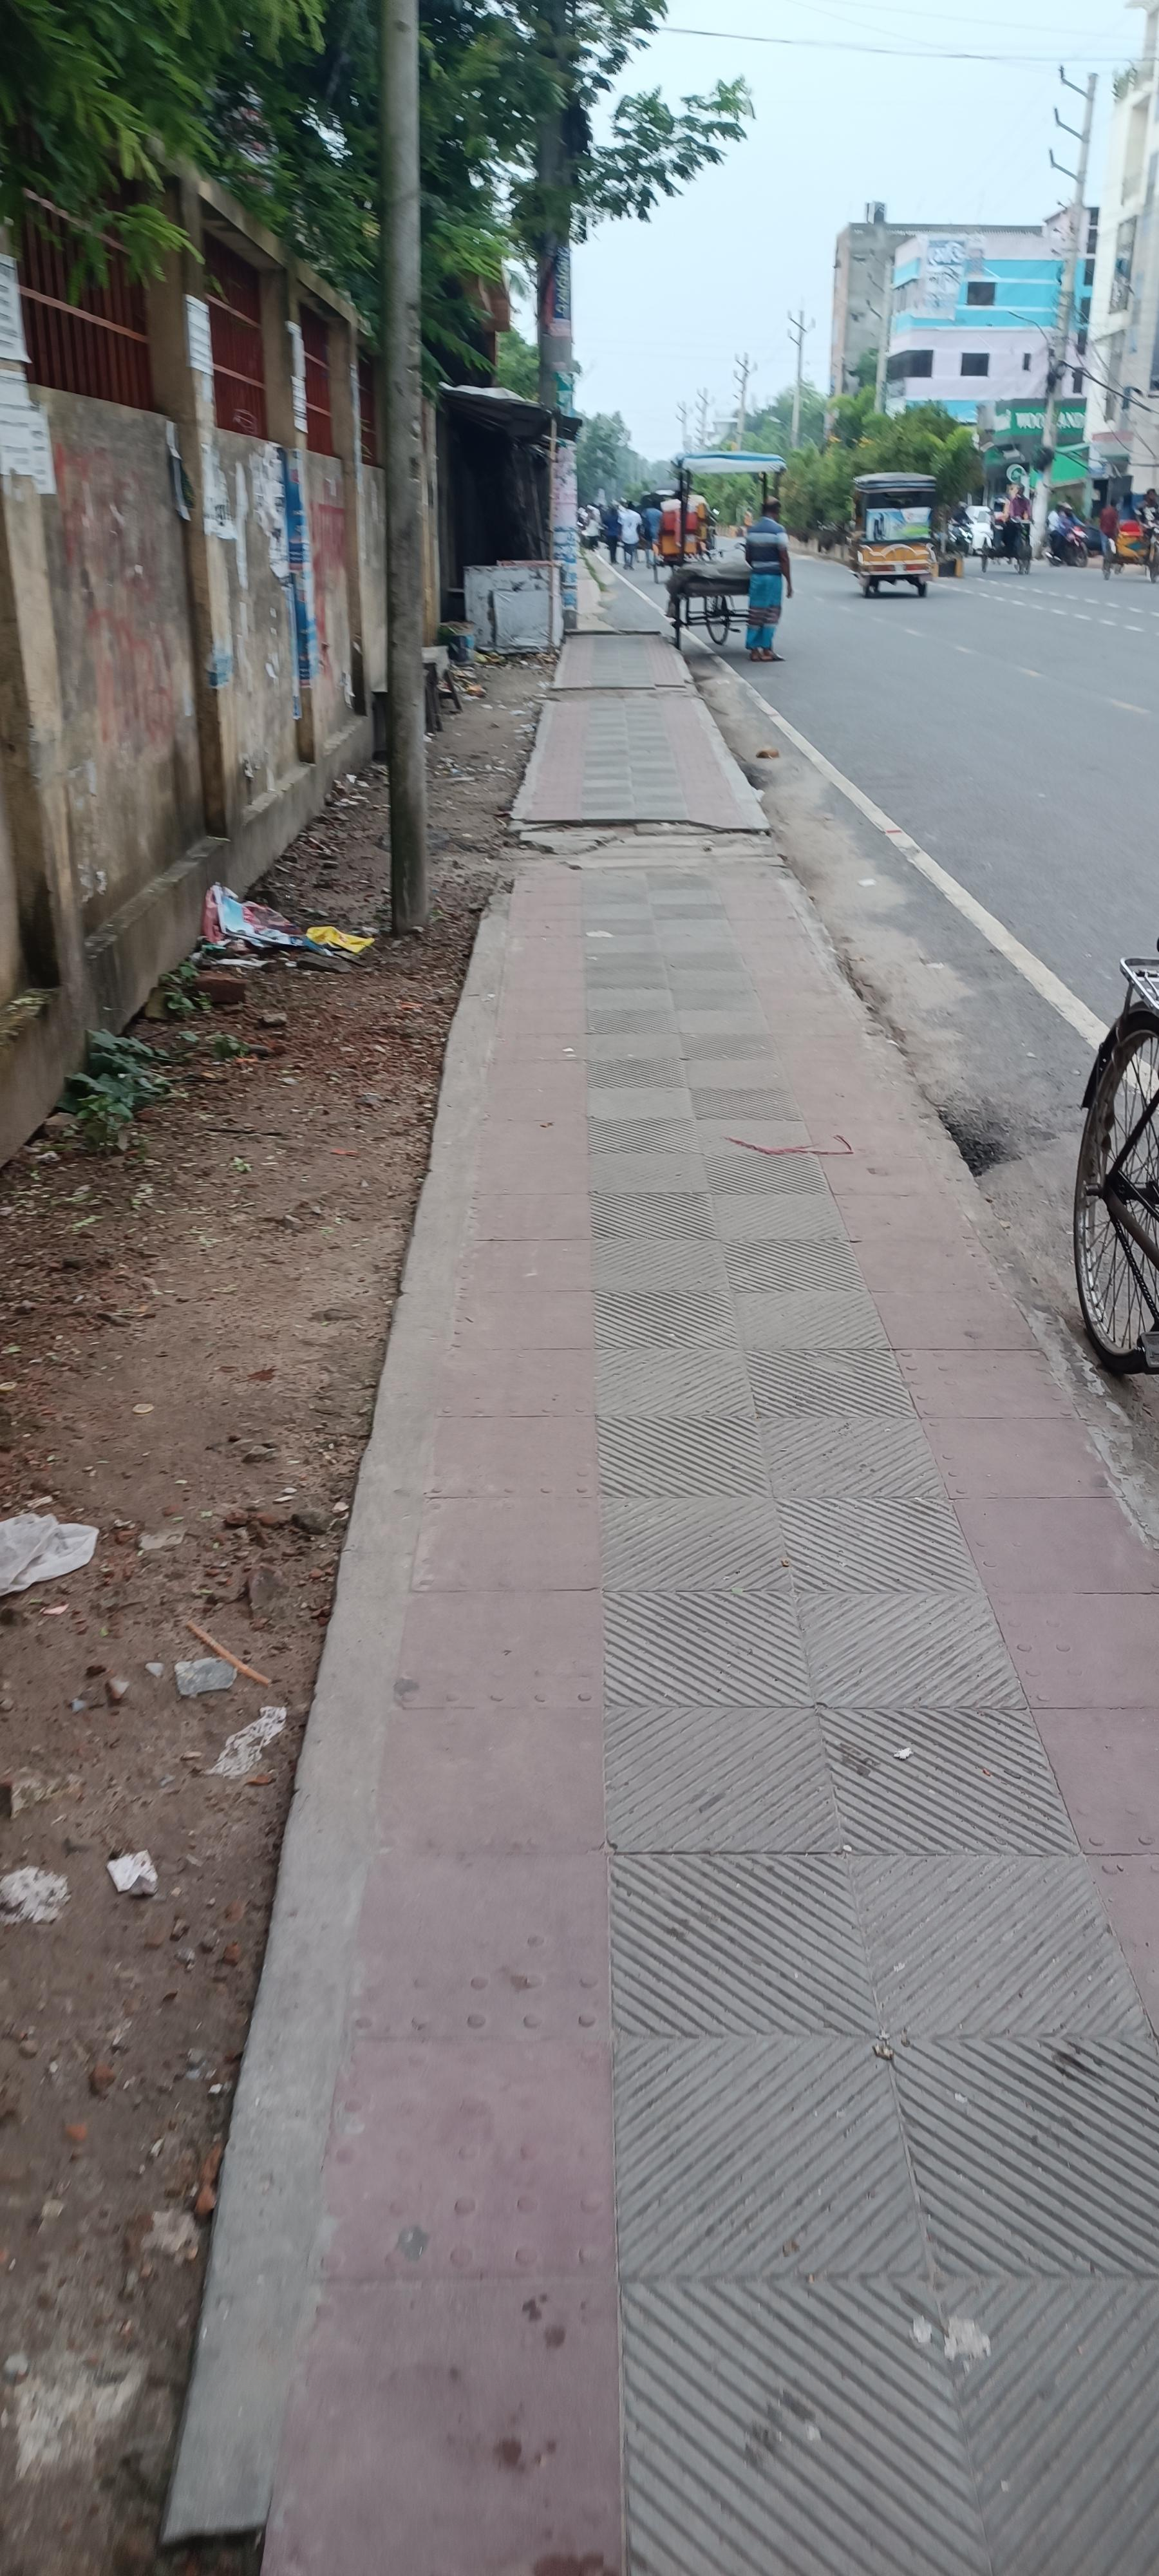Garbage-bin: (742, 498, 793, 662)
Light-pole: (378, 2, 432, 936)
Pothole: (161, 532, 1156, 2569)
